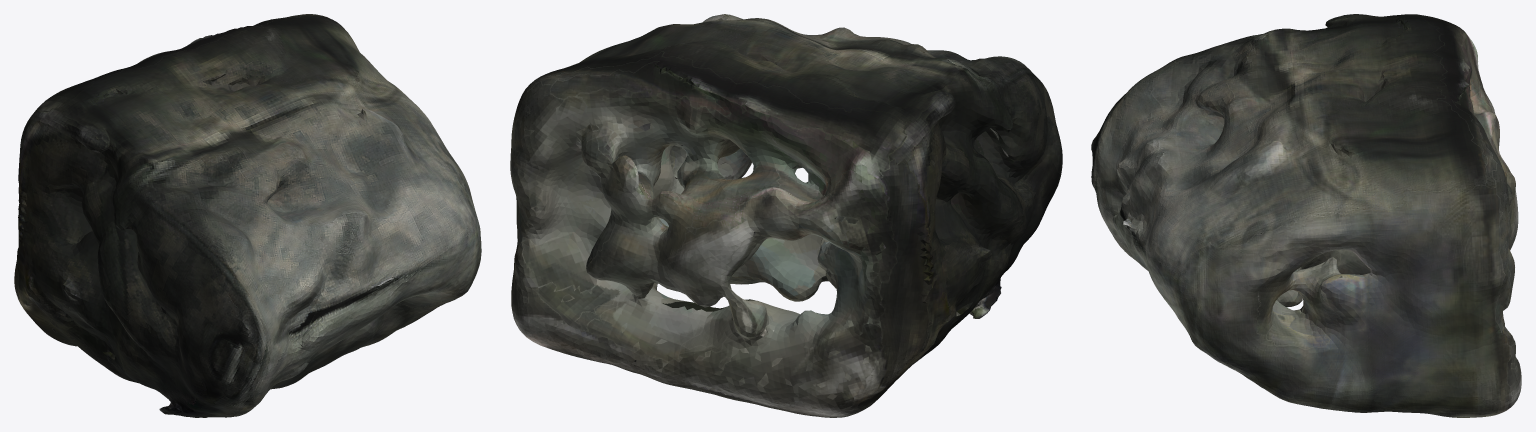
File: lunch_bag.glb
3 views of the same model, side by side, from view 1: azimuth 30°, elevation 25°; view 2: azimuth 150°, elevation 25°; view 3: azimuth 270°, elevation 25° (orthographic). The views are drawn at different scales.
Visible parts, largest first — view 1: world; view 2: world; view 3: world.
Boxes of the visible parts, x1,y1,x2,y2 form: world: (14,14,481,417); world: (510,14,1062,417); world: (1091,14,1521,417).
Bounding box in the file's own units: 1 × 0.7483 × 0.9902.
1 material, 1 textured.
